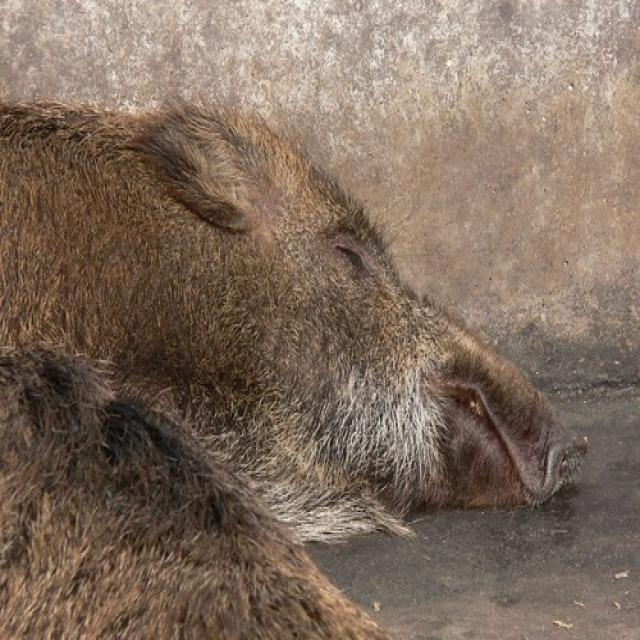boar: (0, 79, 590, 551), (0, 333, 404, 640)
